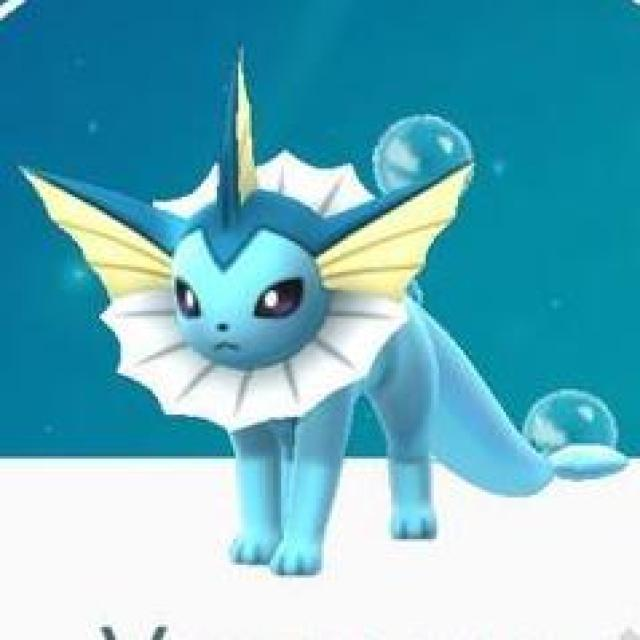Vaporeon: (71, 124, 487, 571)
